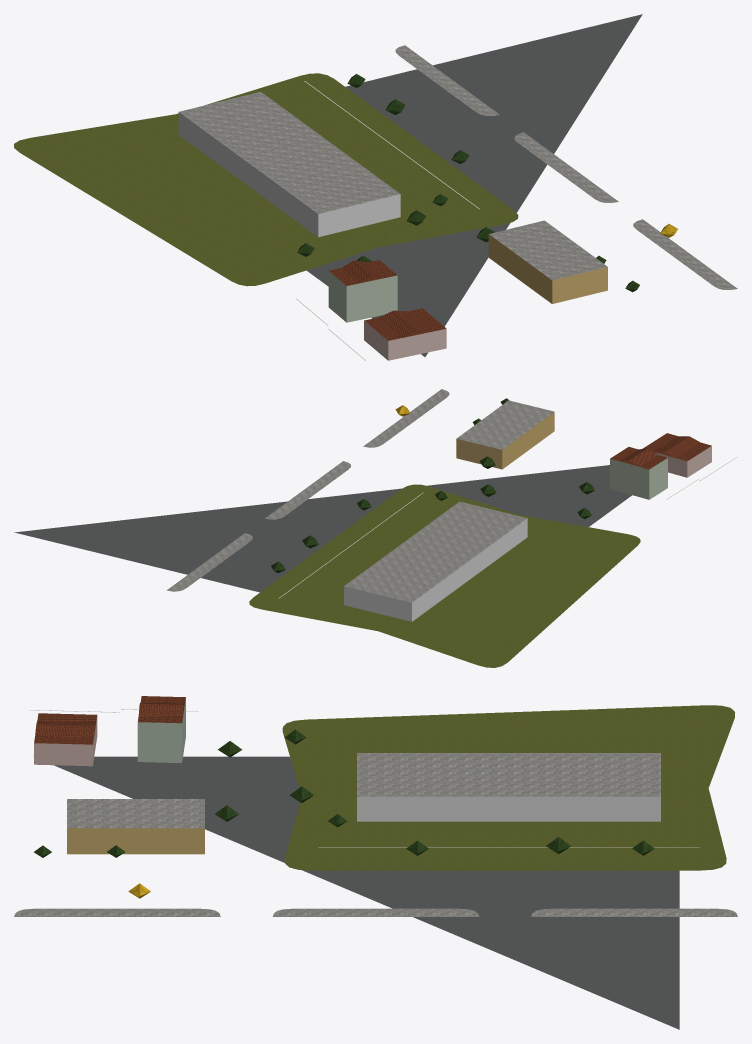
File: cidade_S02_04_lod.gltf
3 views of the same model, one above another, from view 1: azimuth 30°, elevation 25°; view 2: azimuth 150°, elevation 25°; view 3: azimuth 270°, elevation 25° (orthographic). The views are drawn at different scales.
Parts seen in each view (by area): view 1: S02_04_Chao_LOD2, S02_04_Edificios_LOD1, S02_04_Silhueta_LOD2, S02_04_Vegetacao_LOD2; view 2: S02_04_Chao_LOD2, S02_04_Edificios_LOD1, S02_04_Silhueta_LOD2, S02_04_Vegetacao_LOD2; view 3: S02_04_Chao_LOD2, S02_04_Edificios_LOD1, S02_04_Silhueta_LOD2, S02_04_Vegetacao_LOD2.
Boxes of the visible parts, left/top/right/bottom form: S02_04_Chao_LOD2: left=14, top=14, right=737, bottom=356; S02_04_Edificios_LOD1: left=178, top=81, right=607, bottom=360; S02_04_Silhueta_LOD2: left=328, top=260, right=446, bottom=360; S02_04_Vegetacao_LOD2: left=297, top=74, right=677, bottom=292; S02_04_Chao_LOD2: left=14, top=389, right=640, bottom=667; S02_04_Edificios_LOD1: left=278, top=400, right=737, bottom=621; S02_04_Silhueta_LOD2: left=610, top=433, right=711, bottom=498; S02_04_Vegetacao_LOD2: left=271, top=398, right=594, bottom=573; S02_04_Chao_LOD2: left=14, top=705, right=737, bottom=1029; S02_04_Edificios_LOD1: left=29, top=702, right=699, bottom=854; S02_04_Silhueta_LOD2: left=34, top=696, right=185, bottom=766; S02_04_Vegetacao_LOD2: left=34, top=729, right=654, bottom=898.
Size of the model in its own units: 119 by 8.68 by 112.
Materials: 11 (11 with a texture image).
